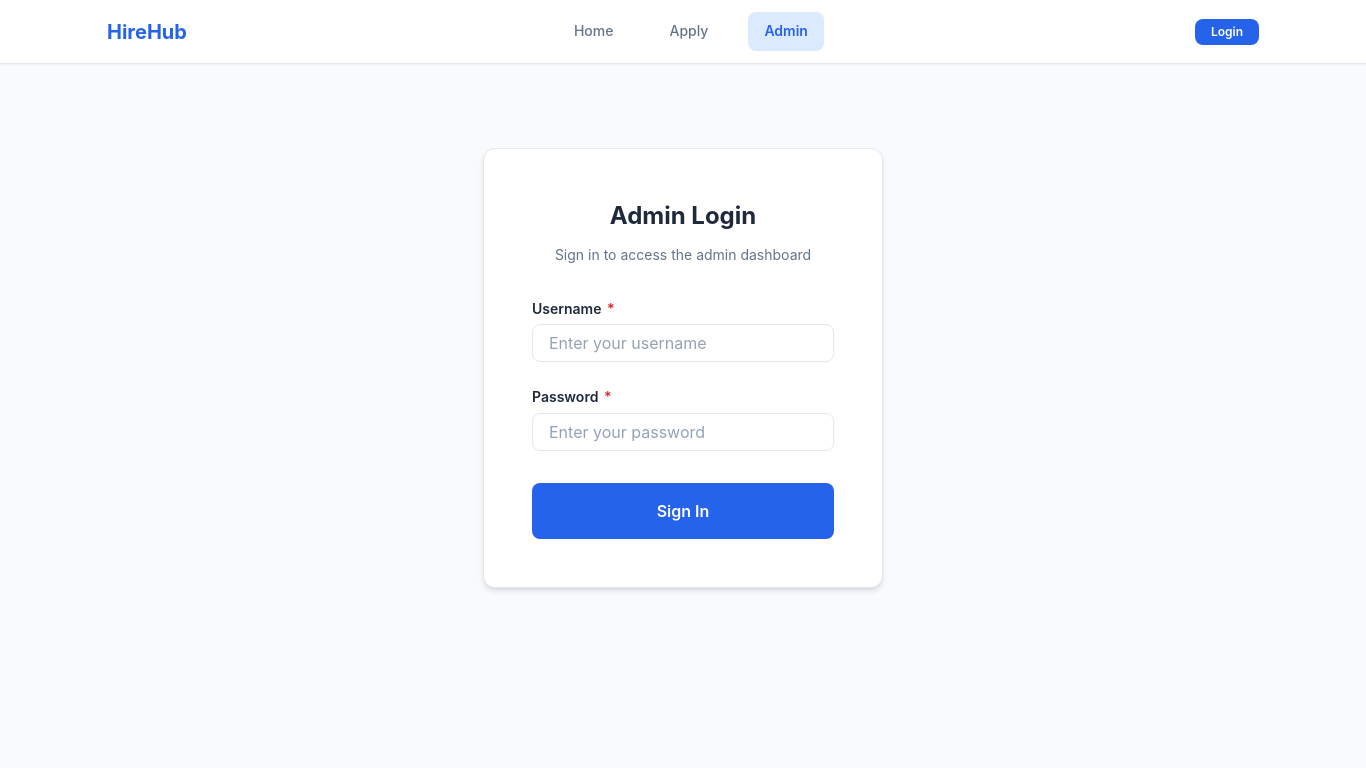
App › Admin route › shows error message for invalid credentials
The width and height of the screenshot is (1366, 768).
Click the link "Admin". click: (786, 32)
box: [748,12,824,51]
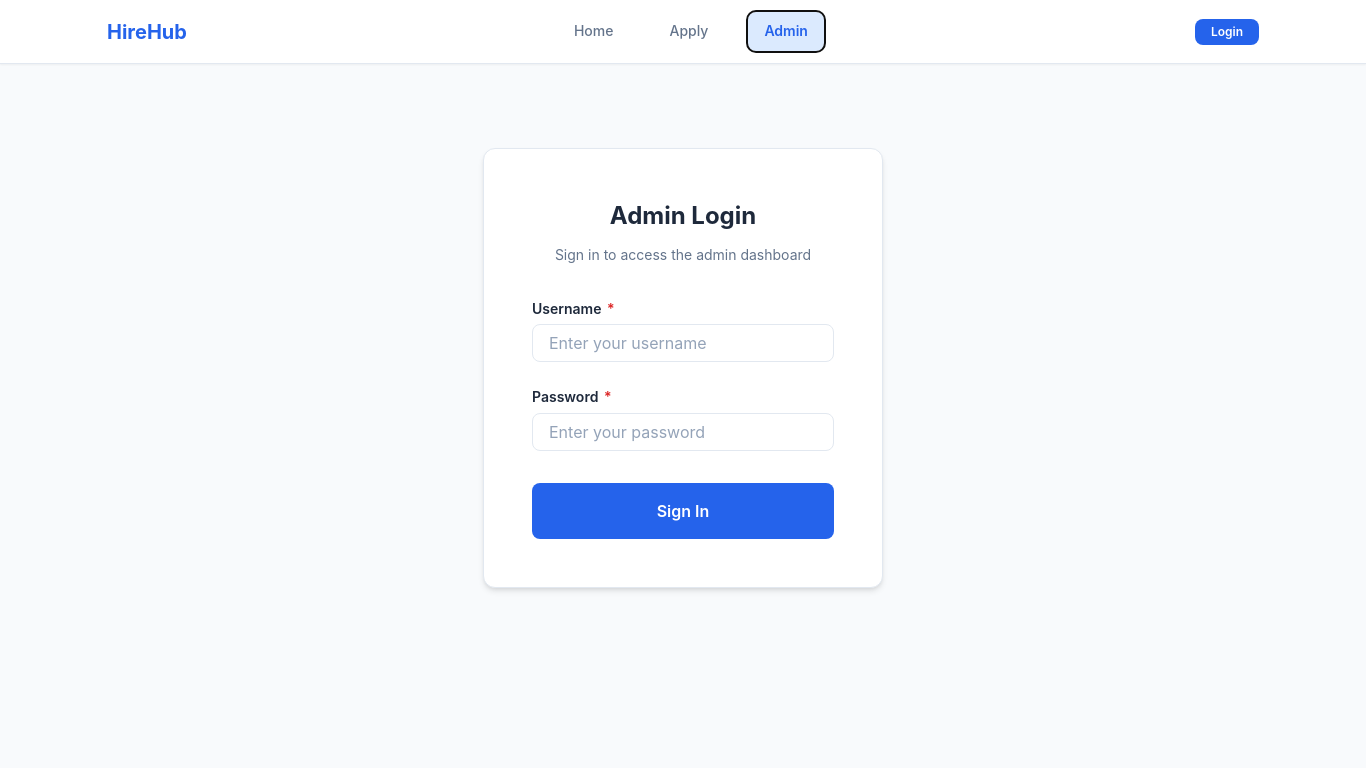
Type "wrong" into the field labelled "Username *". click: (683, 343)
box: [532,324,834,362]
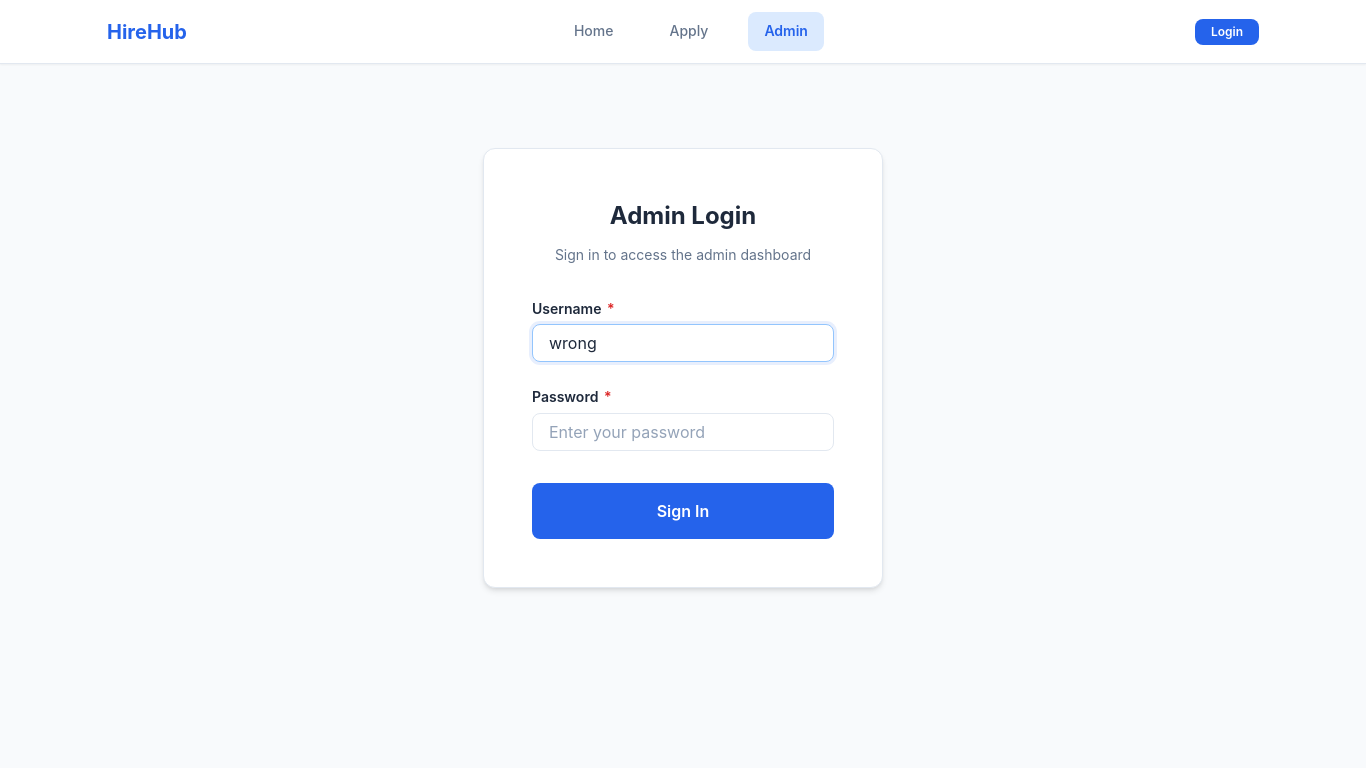
Type "wrong" into the password field labelled "Password *". click: (683, 432)
box: [532,413,834,451]
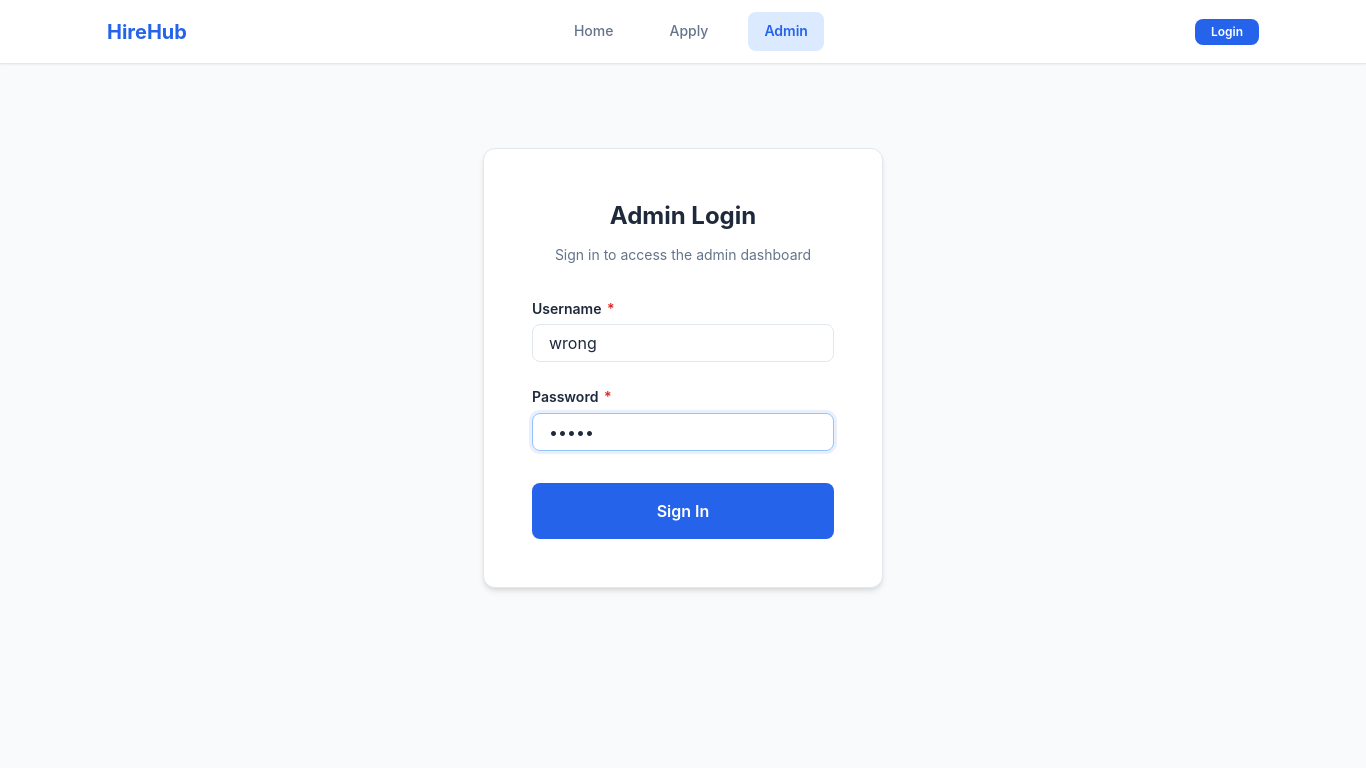
Click the button "Sign In". click: (683, 511)
box: [532,483,834,539]
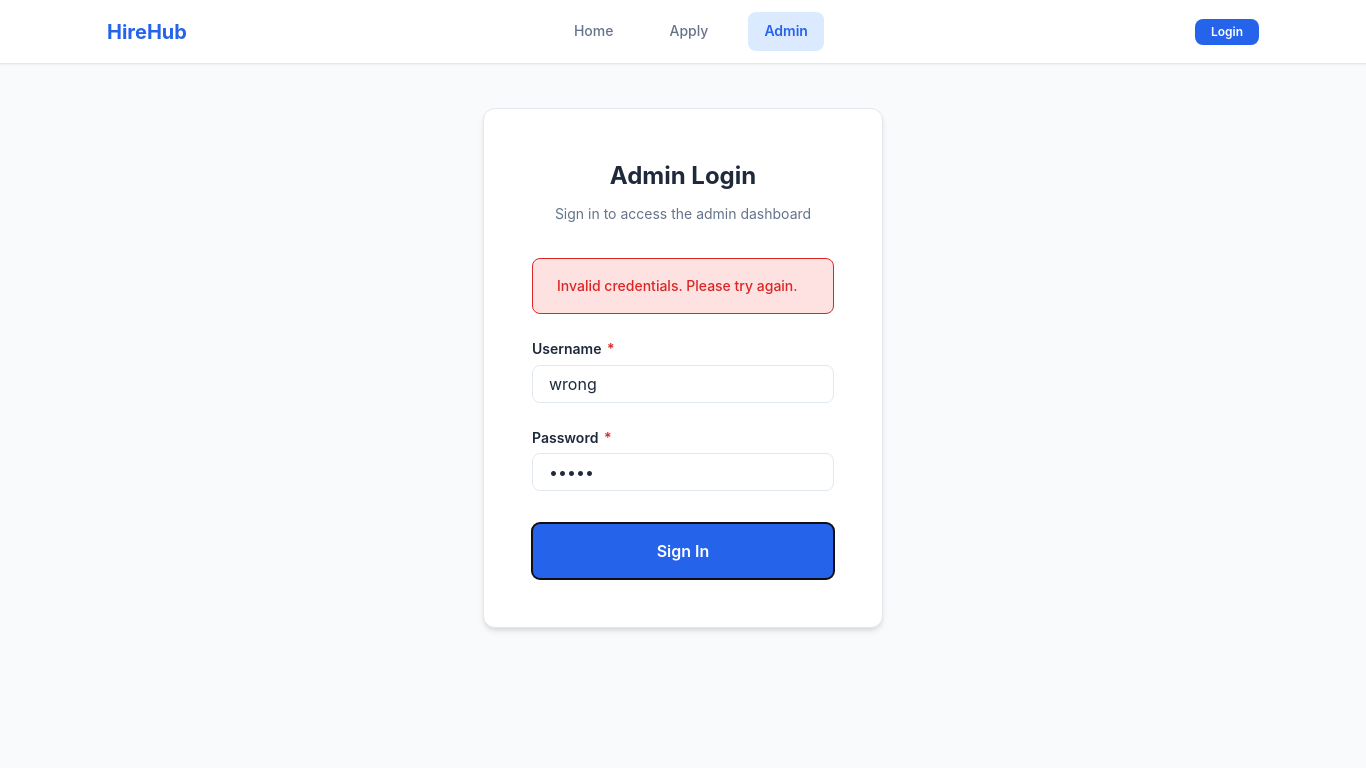
Expected: the text "Invalid credentials. Please try again." is shown, [532,258,834,314]
